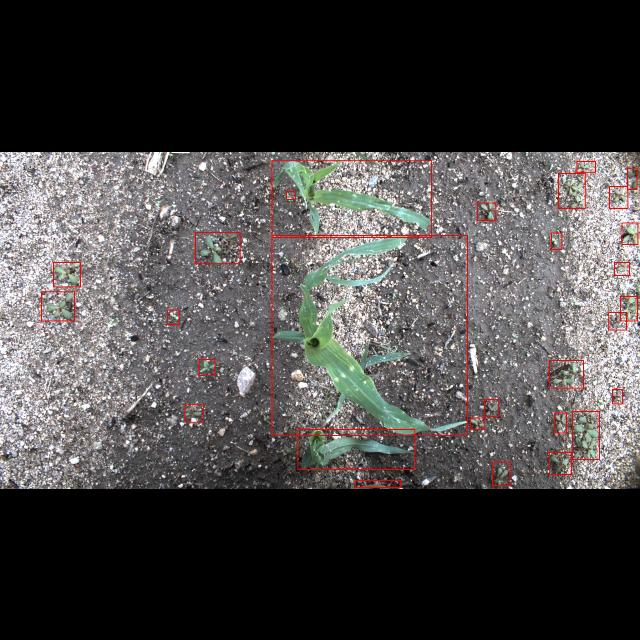crop: (272, 235, 468, 435), (272, 160, 432, 237), (298, 429, 414, 469)
weed: (572, 410, 600, 460), (196, 232, 240, 262), (549, 360, 583, 388), (558, 172, 584, 208), (42, 292, 74, 321), (54, 262, 80, 286), (548, 452, 572, 474), (492, 462, 510, 486), (620, 296, 638, 320), (610, 186, 628, 208), (355, 480, 401, 488), (476, 202, 496, 220), (622, 222, 638, 244), (185, 404, 203, 422), (609, 311, 627, 329), (199, 359, 215, 375), (554, 413, 566, 433), (576, 160, 596, 172), (484, 399, 498, 416), (614, 261, 630, 275), (627, 168, 637, 188), (550, 232, 562, 248), (470, 417, 484, 429), (612, 388, 622, 404), (168, 310, 178, 324), (286, 190, 296, 198)
